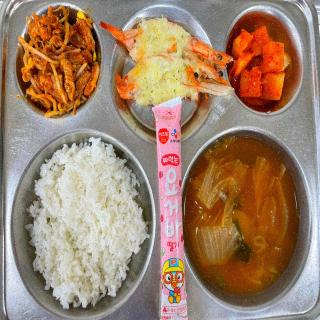Nasi: (30, 140, 152, 309)
